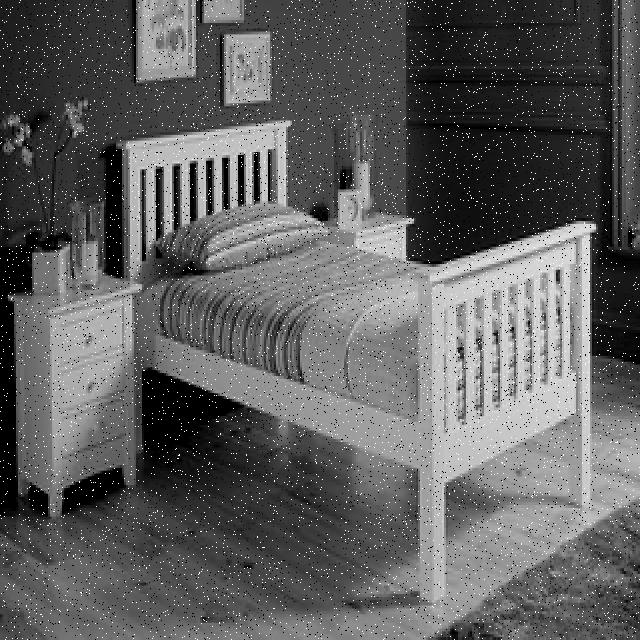bed: (130, 160, 591, 529)
